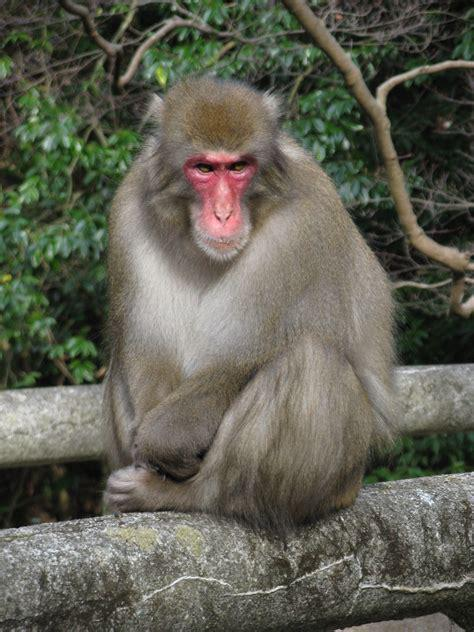monkey: (104, 80, 394, 510)
